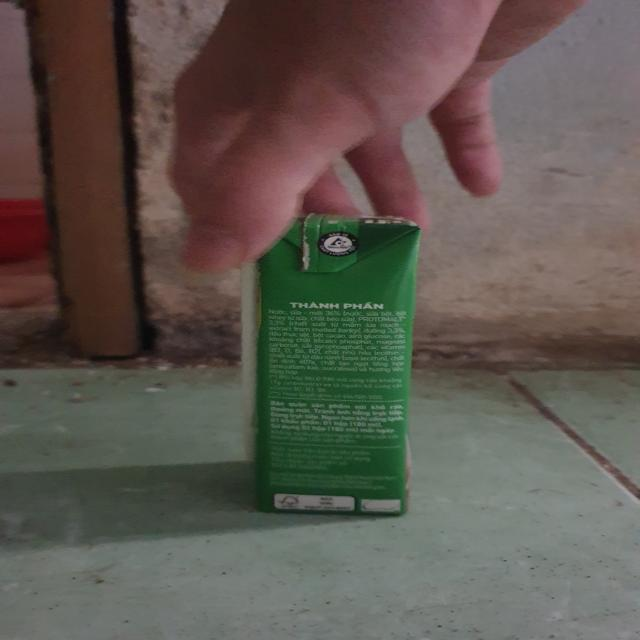Milo: (241, 214, 431, 519)
